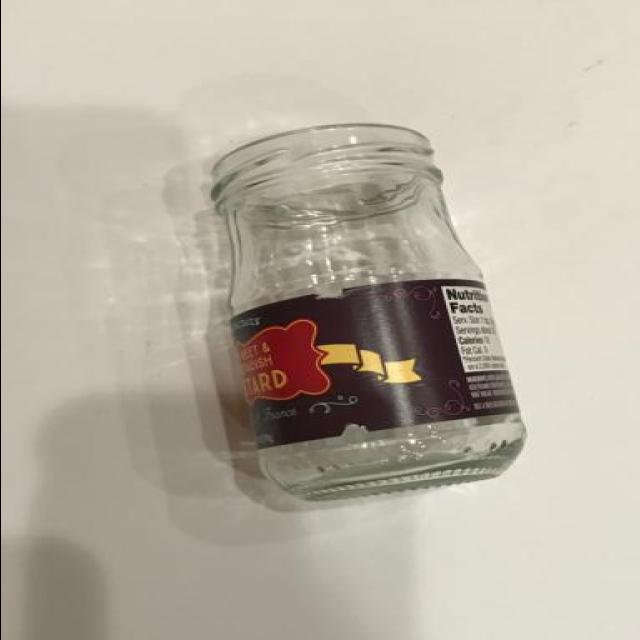Glass Bottle: (208, 128, 526, 504)
